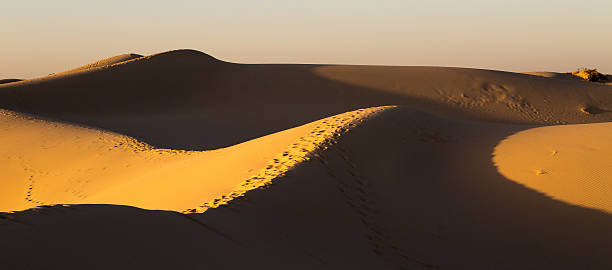animal_footprint: (183, 106, 394, 212)
